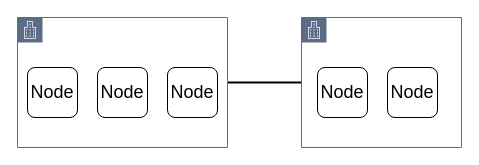
This 479x165 diagram has some shape labels left out. The box of each missing label's shape, as (x1, y1, x2, y2) in pixels:
Corporate DC1: (16, 16, 228, 148)
Corporate DC2: (300, 16, 462, 148)
